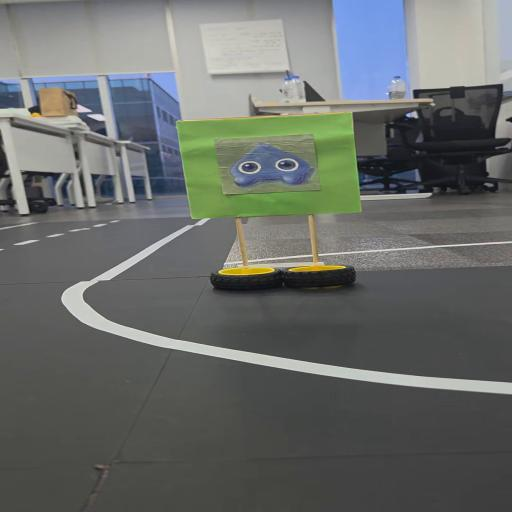Sign_B: (168, 108, 392, 296)
